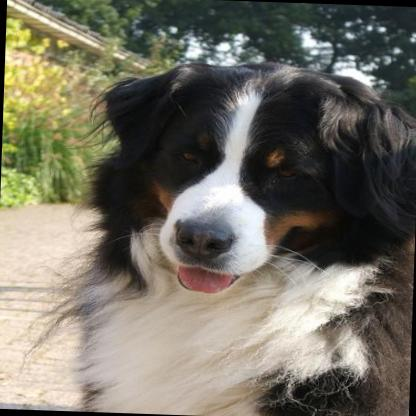Bernese_mountain_dog: (73, 62, 416, 416)
